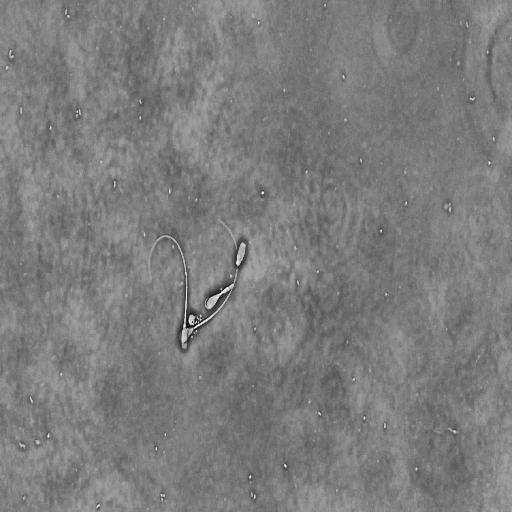coiled-tail: (205, 283, 234, 308)
dirt-particles: (186, 311, 203, 327)
loose-head: (235, 237, 247, 269)
normal: (174, 212, 242, 348), (144, 230, 191, 355), (202, 278, 237, 316)
